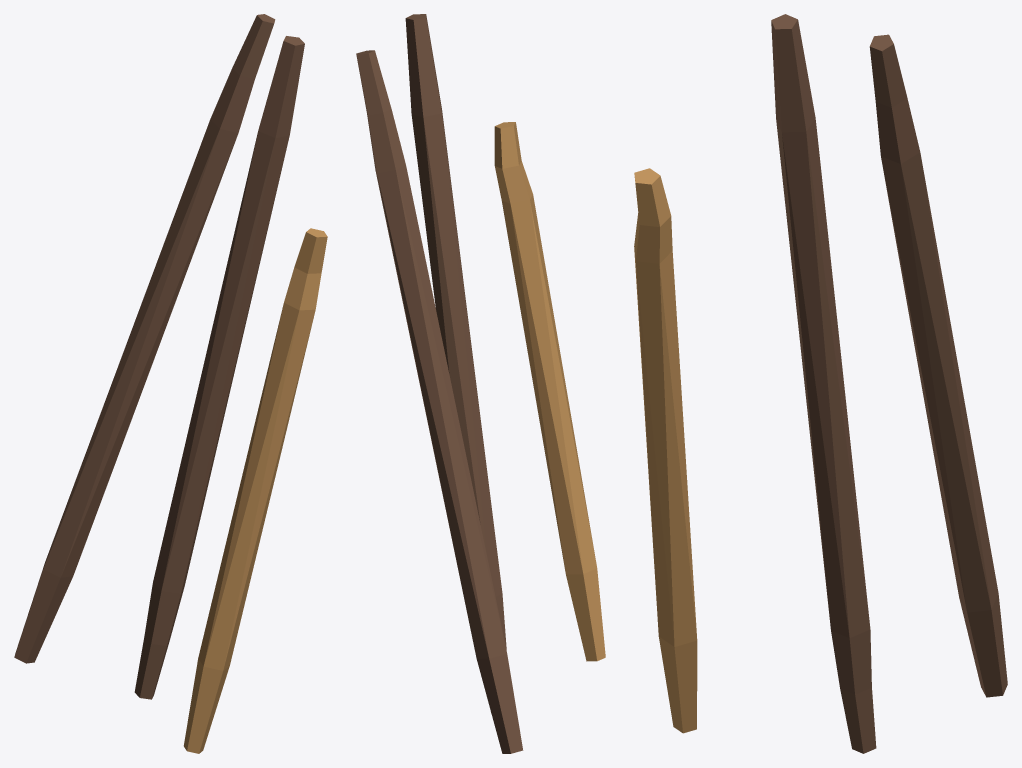
The model's file is branches.fbx.
3 views of the same model, side by side, from view 1: azimuth 30°, elevation 25°; view 2: azimuth 150°, elevation 25°; view 3: azimuth 270°, elevation 25° (orthographic). The views are drawn at different scales.
Parts seen in each view (by area): view 1: Icosphere.001, Icosphere.199, Icosphere.198; view 2: Icosphere.001, Icosphere.198, Icosphere.199; view 3: Icosphere.199, Icosphere.001, Icosphere.198.
Boxes of the visible parts, <box> form: Icosphere.001: <box>14,14,275,663</box>; Icosphere.199: <box>134,36,304,699</box>; Icosphere.198: <box>183,228,327,753</box>; Icosphere.001: <box>356,50,523,753</box>; Icosphere.198: <box>494,122,605,661</box>; Icosphere.199: <box>405,14,506,712</box>; Icosphere.199: <box>771,14,876,753</box>; Icosphere.001: <box>869,34,1007,697</box>; Icosphere.198: <box>634,168,697,733</box>.
Bounding box in the file's own units: 88.91 × 258 × 110.
